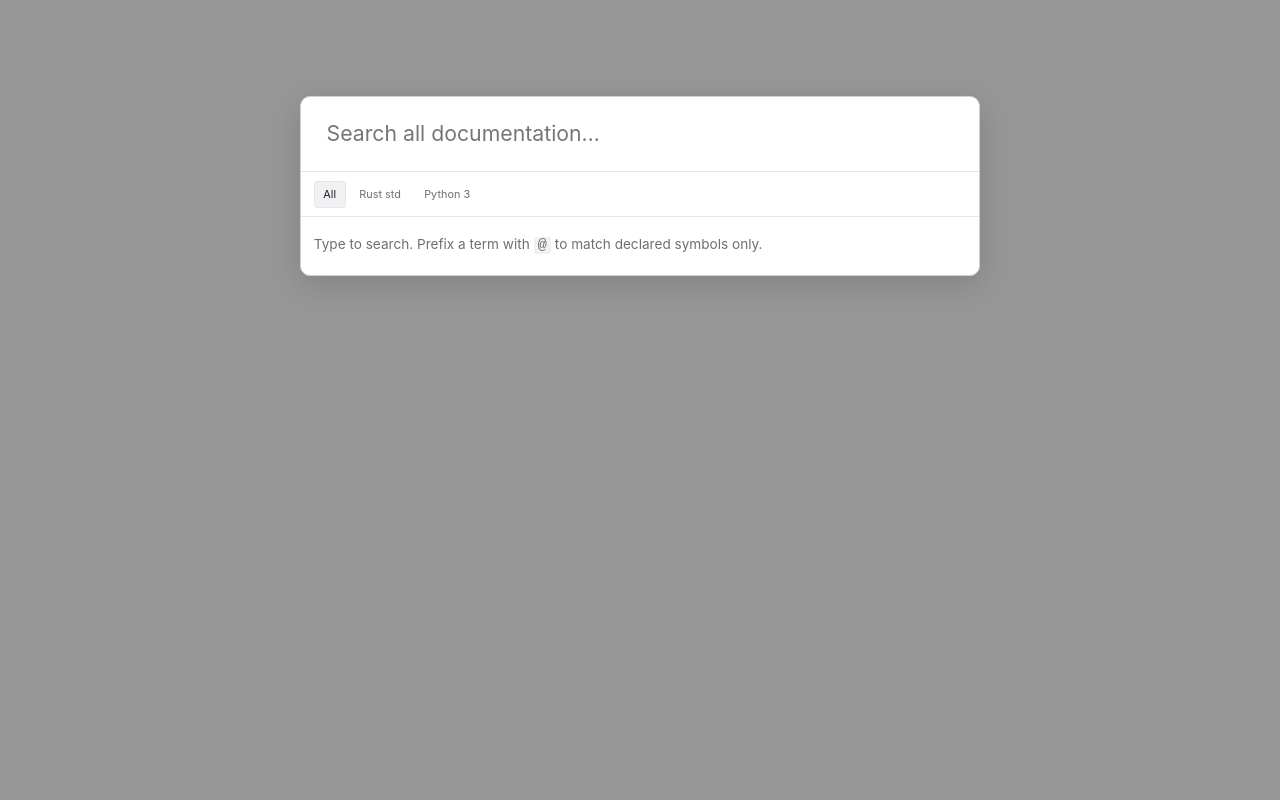
Test: SearchModal › renders a snippet as text, never as markup
In the field named "Search query": (640, 134) left=314, top=110, right=966, bottom=159, type "vec"
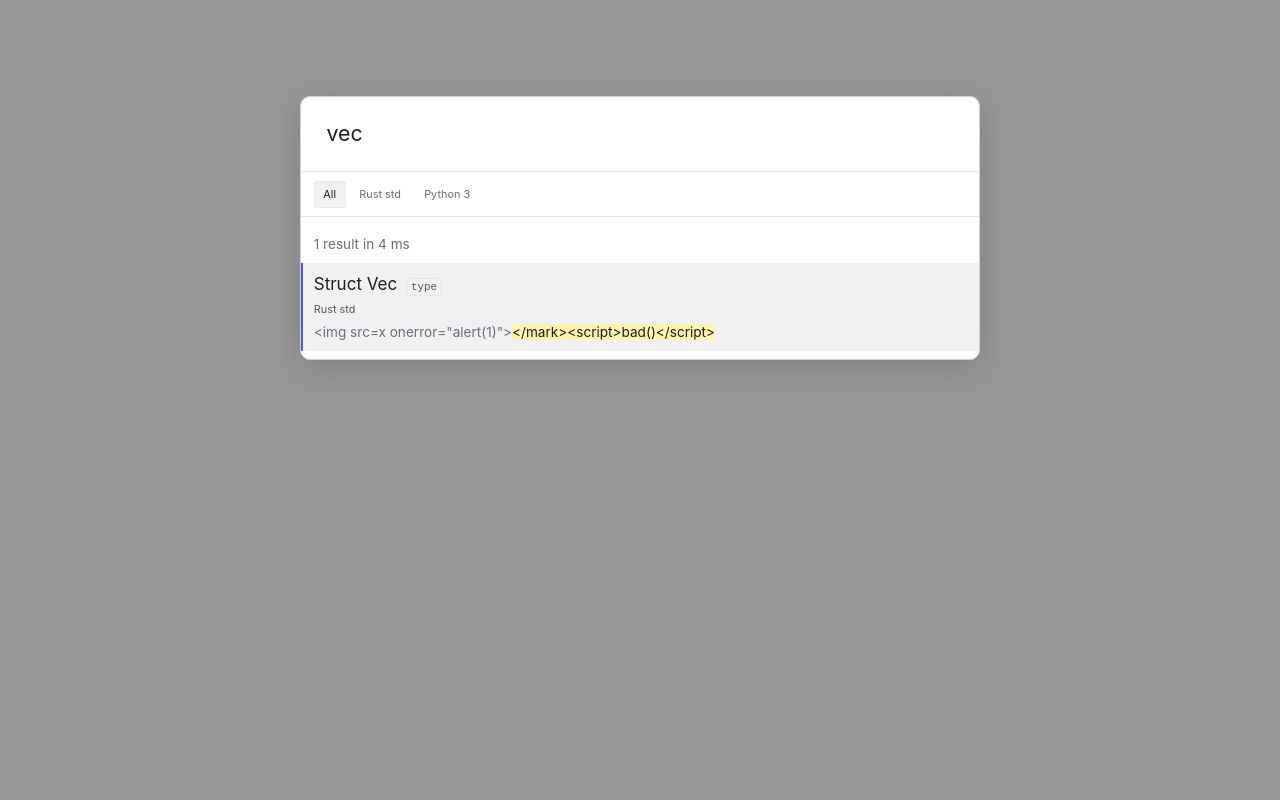
Check: the option is shown, box left=301, top=263, right=979, bottom=351
